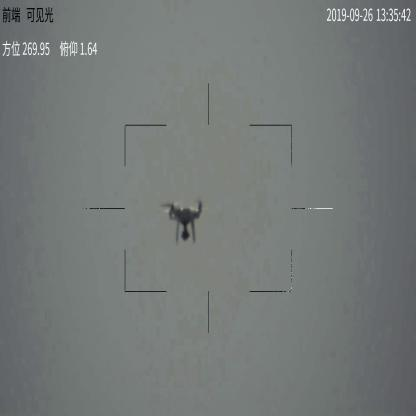uav: (160, 200, 202, 242)
